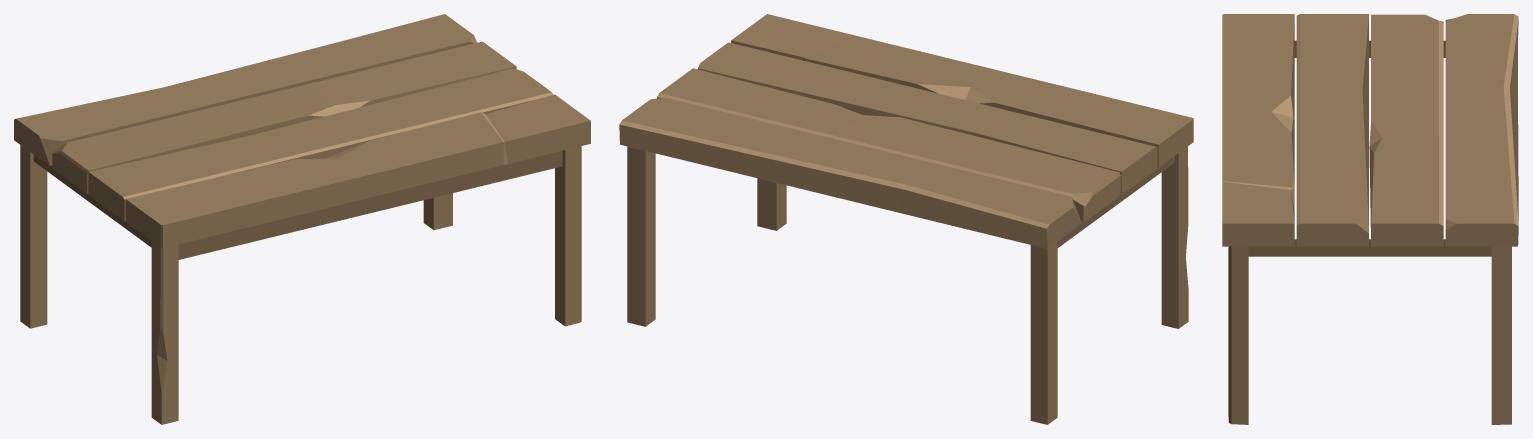
The model's file is WF_LP_HT_Props_Table.002.fbx.
3 renders of one model, left to right at view 1: azimuth 30°, elevation 25°; view 2: azimuth 150°, elevation 25°; view 3: azimuth 270°, elevation 25°, orthographic.
Visible parts, largest first — view 1: WF_LP_HT_Props_Table.002; view 2: WF_LP_HT_Props_Table.002; view 3: WF_LP_HT_Props_Table.002.
Part boxes in pixels (x1=…): WF_LP_HT_Props_Table.002: x1=14, y1=14, x2=590, y2=424; WF_LP_HT_Props_Table.002: x1=619, y1=14, x2=1193, y2=424; WF_LP_HT_Props_Table.002: x1=1222, y1=14, x2=1518, y2=424.
Size of the model in its own units: 2.07 by 0.9378 by 1.23.
